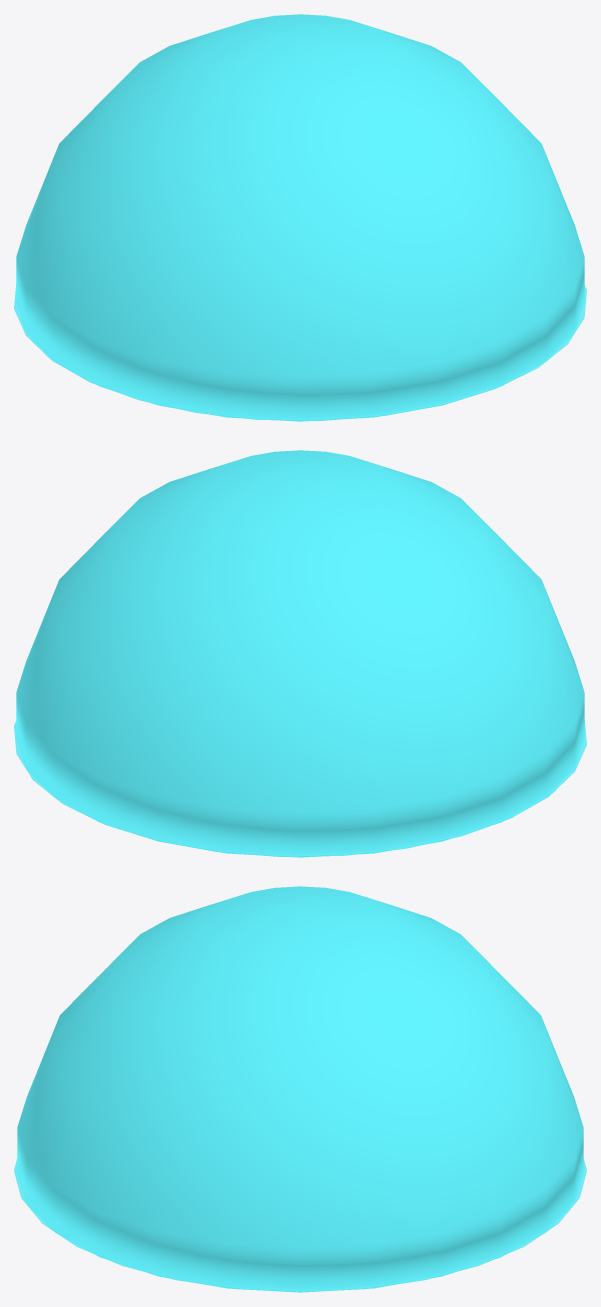
File: shield_dome.glb
The picture shows the model from 3 angles, top to bottom: view 1: azimuth 30°, elevation 25°; view 2: azimuth 150°, elevation 25°; view 3: azimuth 270°, elevation 25°; orthographic projection.
Visible parts, largest first — view 1: Shell, Rim; view 2: Shell, Rim; view 3: Shell, Rim.
Boxes of the visible parts, x1,y1,x2,y2 form: Shell: [16, 14, 584, 421]; Rim: [14, 284, 586, 420]; Shell: [16, 450, 584, 857]; Rim: [14, 720, 586, 856]; Shell: [17, 886, 583, 1292]; Rim: [14, 1158, 586, 1292].
Size of the model in its own units: 12.95 by 6.5 by 12.95.
